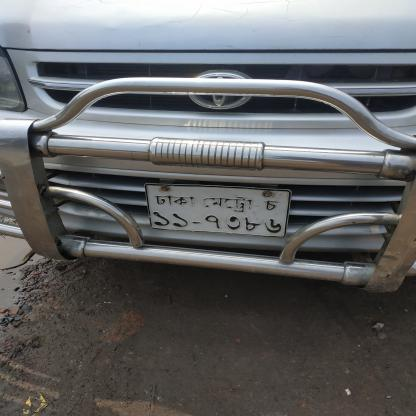license_plate: (76, 154, 341, 250)
